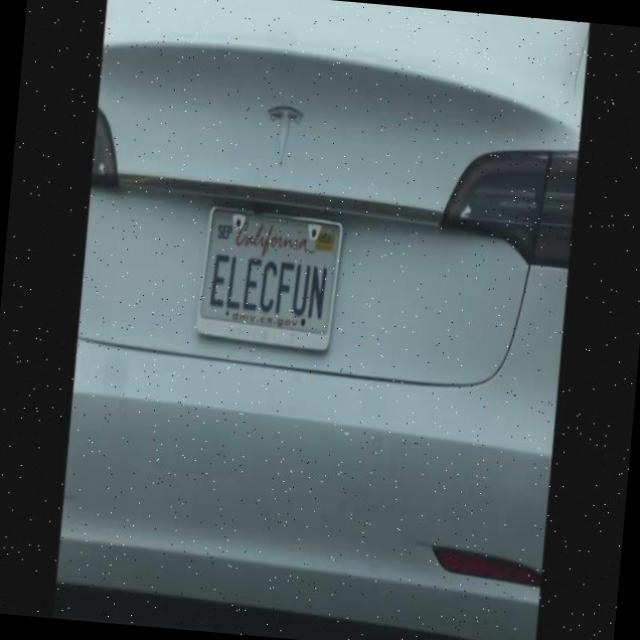LicensePlate: (189, 182, 349, 362)
